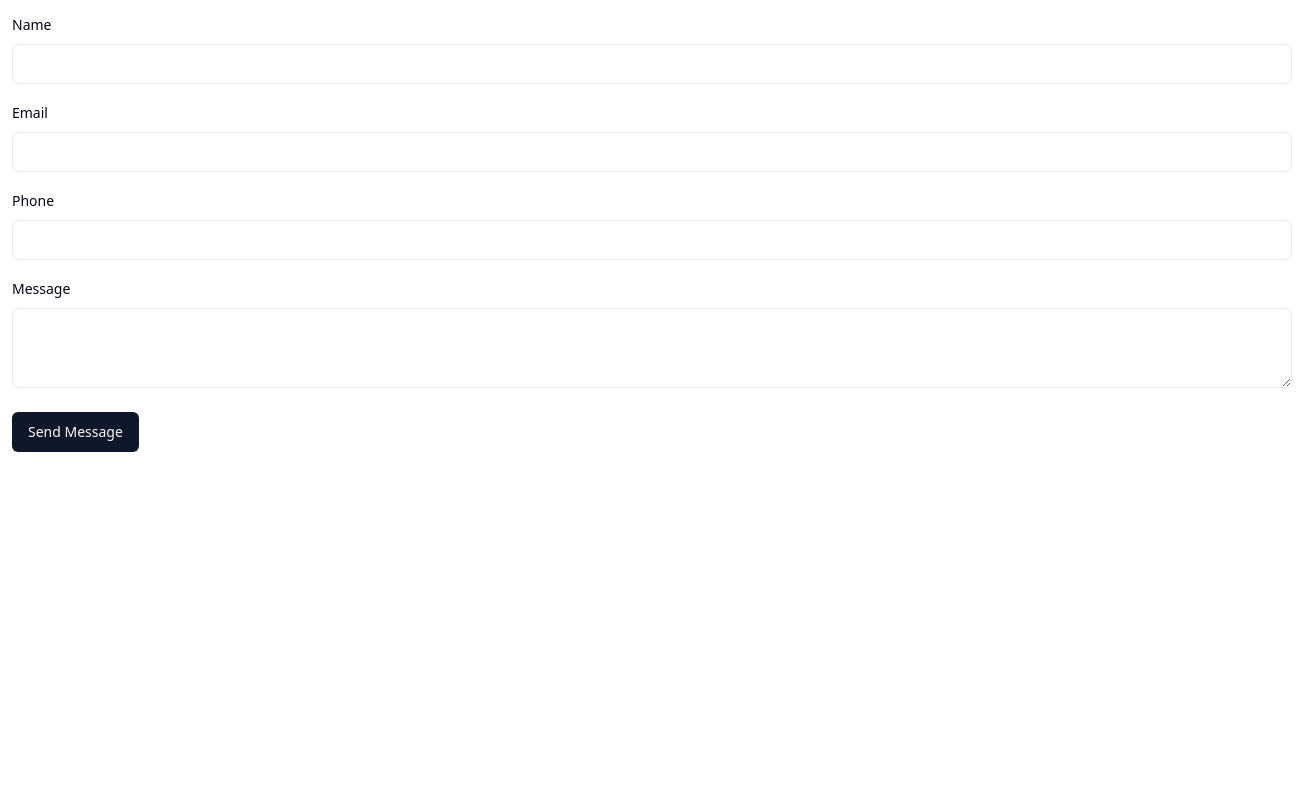
Test: ContactForm › should show the custom min-length message once a too-short value is entered
Type "a" into the field labelled "Name" at (652, 64), box [12,44,1292,84]
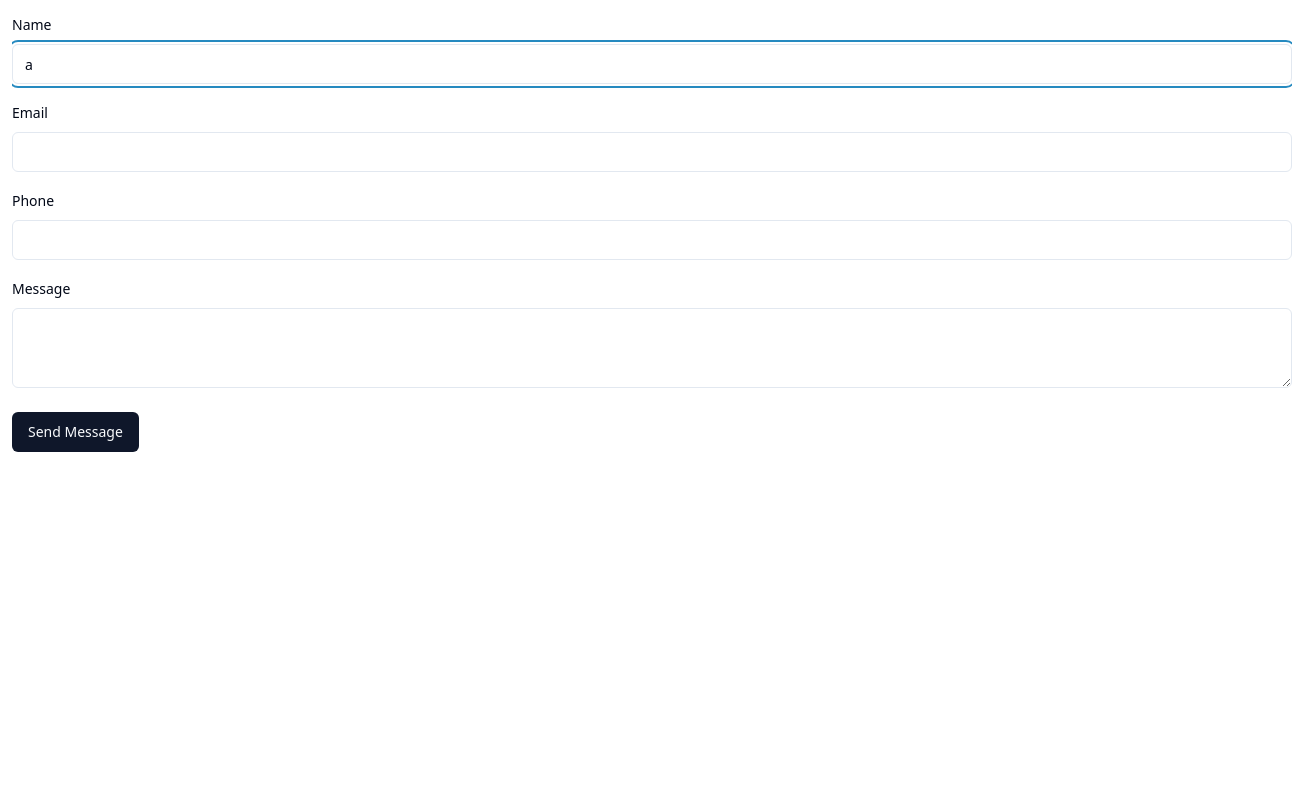
Type "123" into the field labelled "Phone" at (652, 240), box [12,220,1292,260]
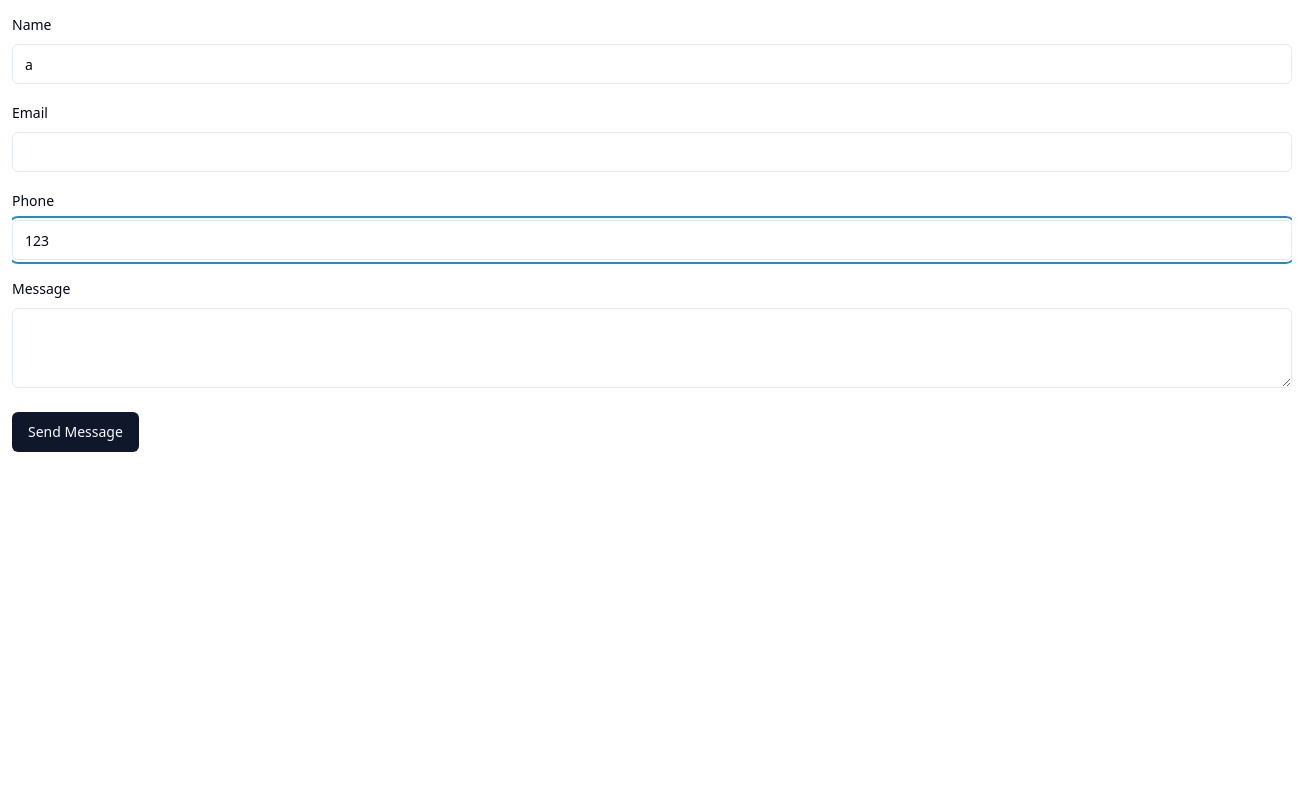
Click the button "Send Message" at (75, 432), box [12,412,139,452]
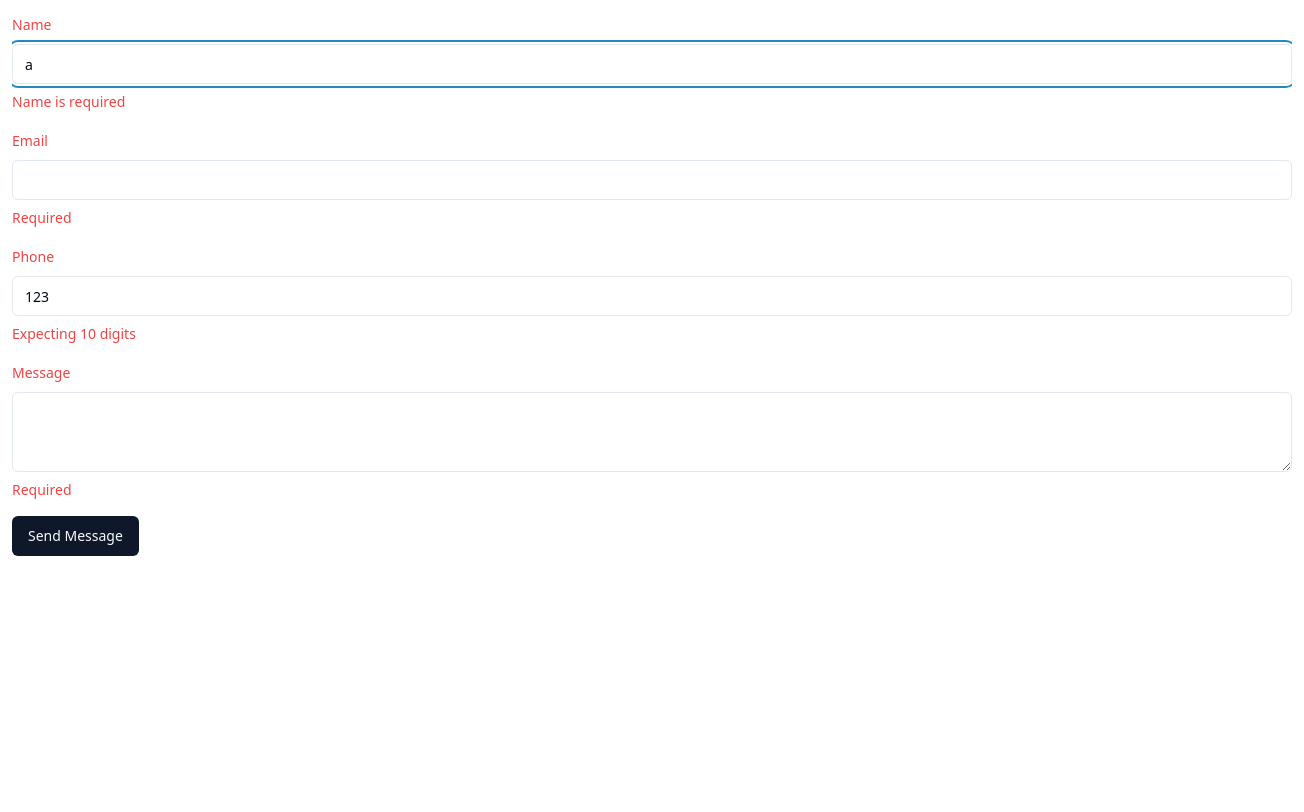
expect the text "Name is required" is shown: met, box [12,92,125,111]
expect the text "Expecting 10 digits" is shown: met, box [12,324,136,343]
